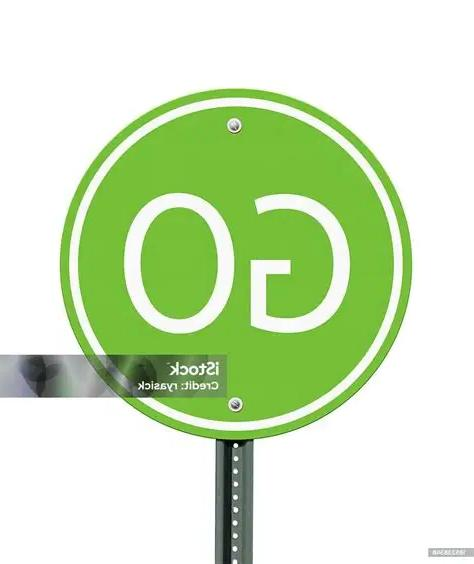Go: (61, 89, 411, 439)
